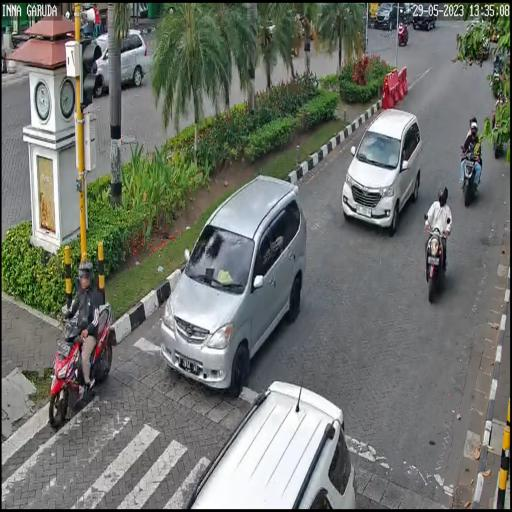mobil: (162, 179, 307, 389), (340, 105, 424, 238)
motor: (49, 312, 114, 426), (424, 216, 454, 305), (459, 142, 483, 211)
